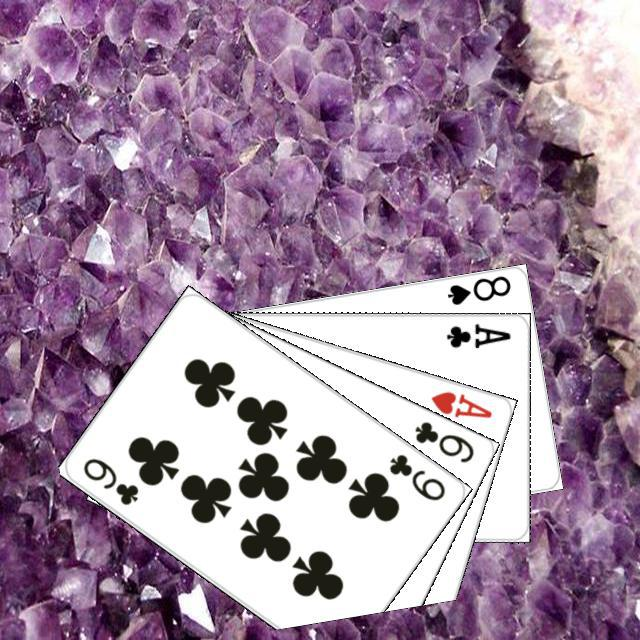6c: (409, 416, 476, 465)
8s: (442, 271, 513, 307)
9c: (384, 449, 447, 503), (78, 453, 141, 507)
Ac: (441, 319, 512, 350)
Ah: (425, 386, 494, 420)
